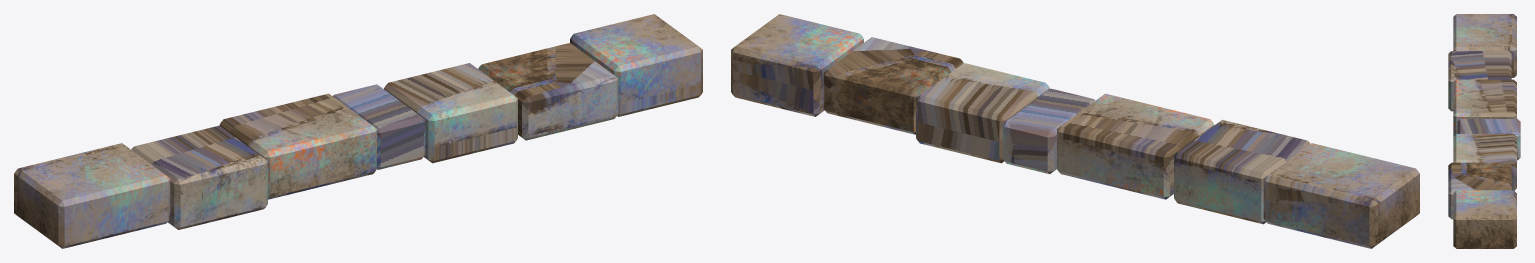
File: SbS_Brick_A_02.fbx
3 renders of one model, left to right at view 1: azimuth 30°, elevation 25°; view 2: azimuth 150°, elevation 25°; view 3: azimuth 270°, elevation 25°, orthographic. The views are drawn at different scales.
Parts seen in each view (by area): view 1: SbS_Brick_A_02; view 2: SbS_Brick_A_02; view 3: SbS_Brick_A_02.
Boxes of the visible parts, <box> form: SbS_Brick_A_02: <box>14,14,702,248</box>; SbS_Brick_A_02: <box>731,14,1419,248</box>; SbS_Brick_A_02: <box>1448,14,1520,248</box>.
Bounding box in the file's own units: 489 × 39.02 × 73.41.
